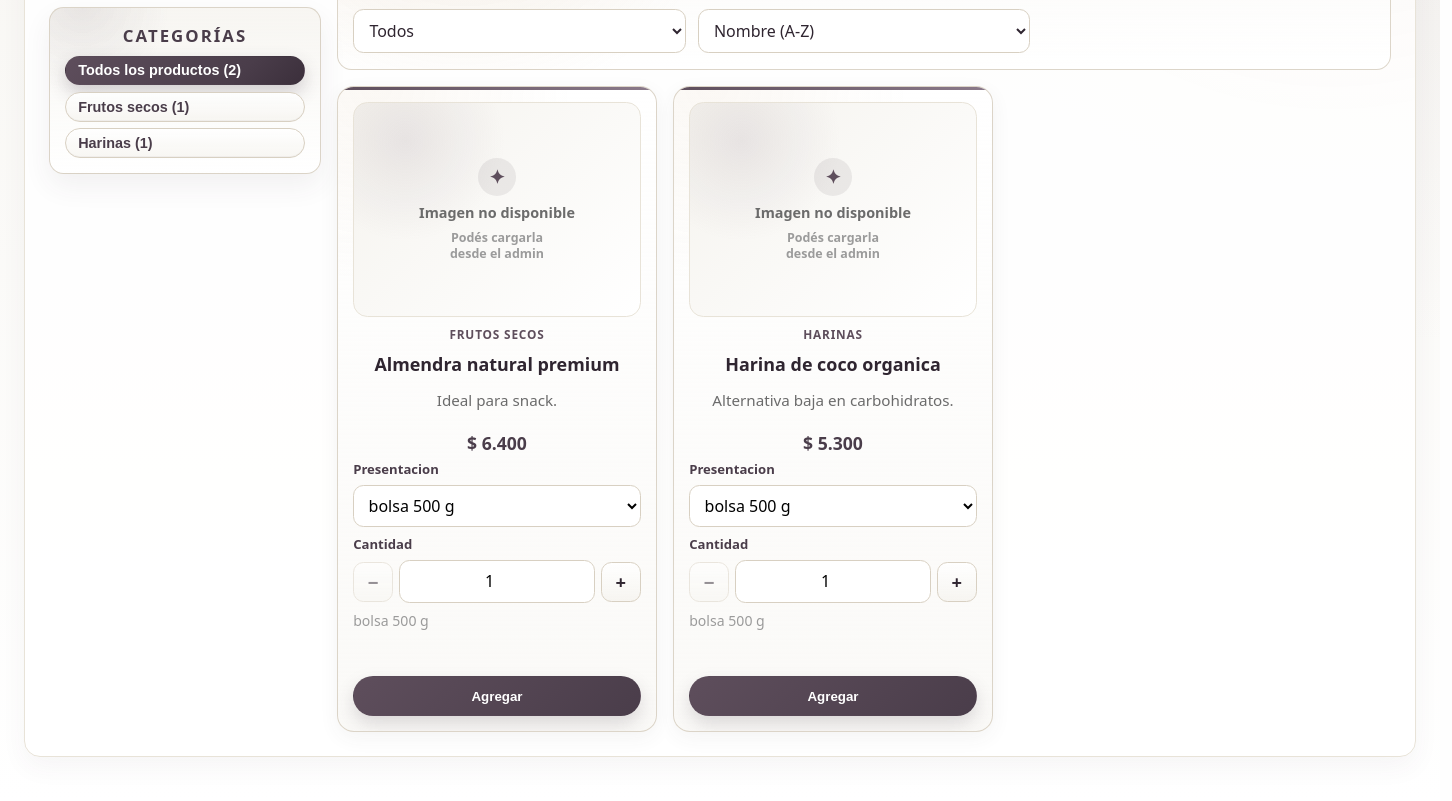
App checkout MVP flow › updates the shared cart badge when adding from productos cards
(page scrolled)
Expected: the heading "Almendra natural premium" is shown, 353,353 -> 641,377
Expected: the element named "Almendra natural premium" is shown, 337,86 -> 657,732
Replace the text in the number field named "Cantidad para Almendra natural premium" with "2": x=497, y=582 399,560 -> 595,603
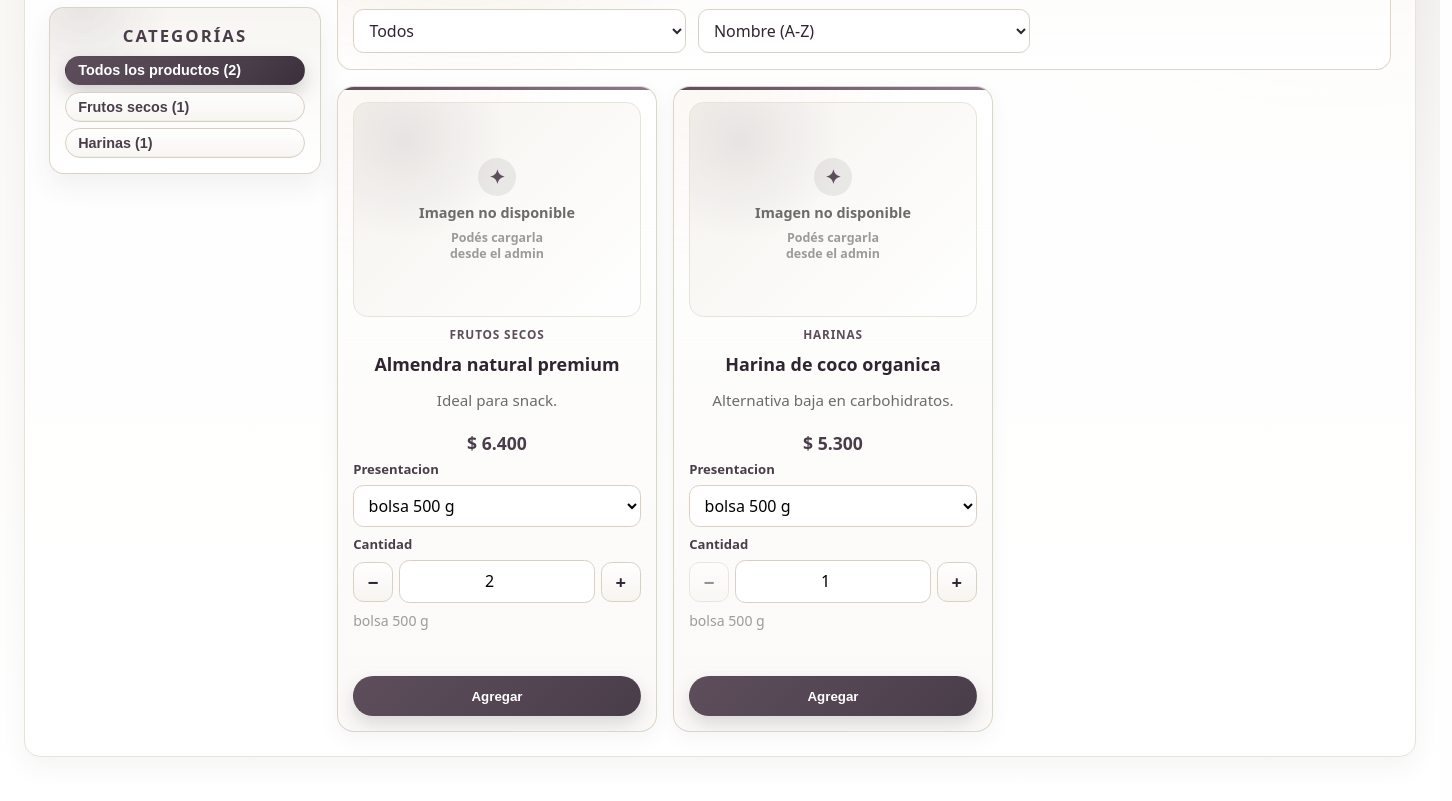
Click the button "Agregar" below "$ 6.400": x=497, y=696 353,676 -> 641,716
(page scrolled)
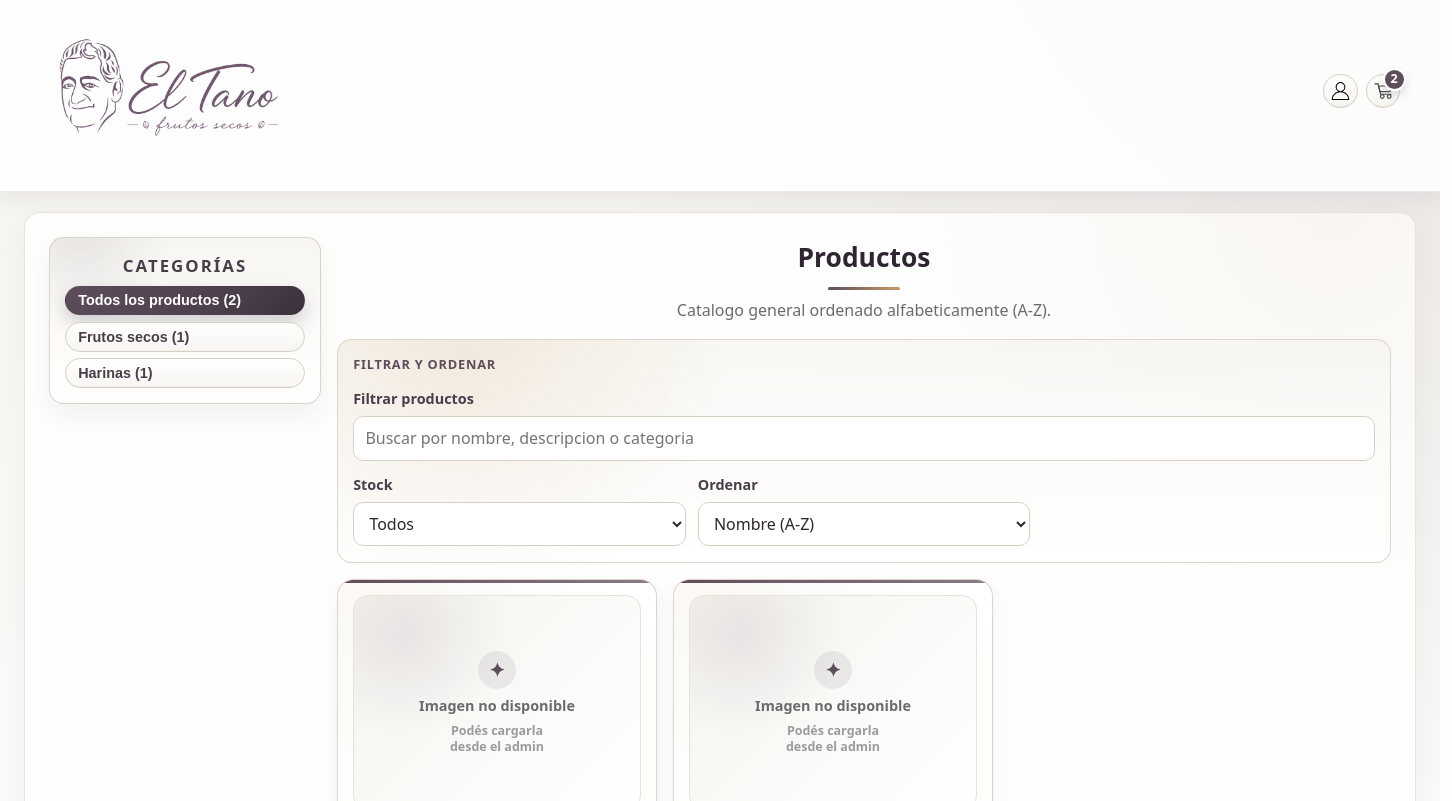
Expected: the link named "Ver carrito, 2 items" reads "2", 1366,74 -> 1400,108
